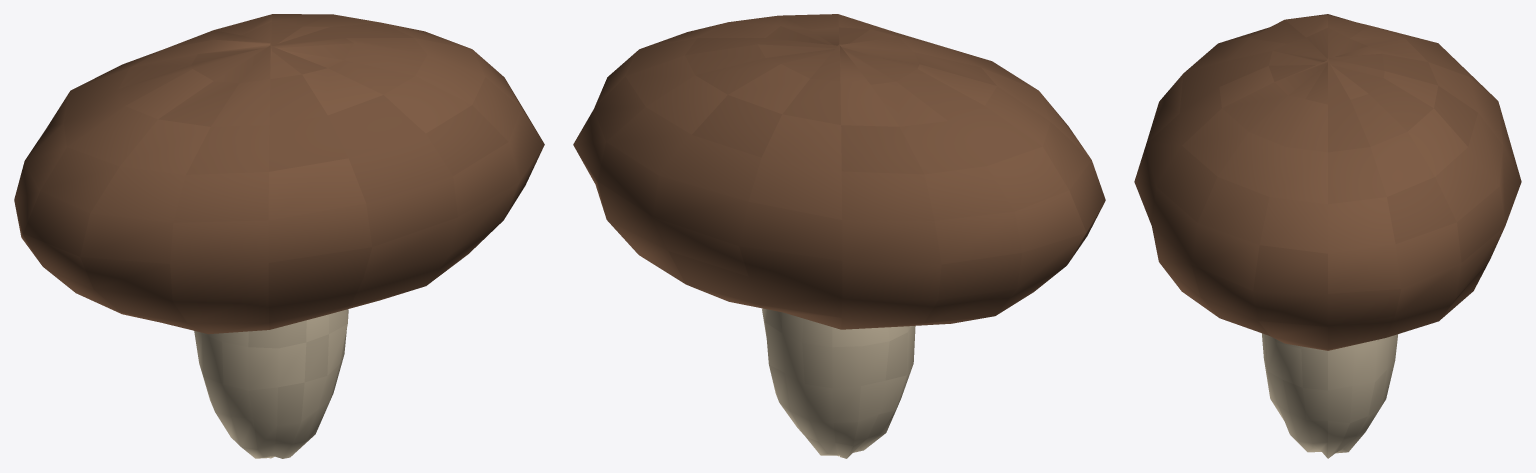
File: Shiitake.glb
3 views of the same model, side by side, from view 1: azimuth 30°, elevation 25°; view 2: azimuth 150°, elevation 25°; view 3: azimuth 270°, elevation 25° (orthographic). The views are drawn at different scales.
Visible parts, largest first — view 1: Shiitake; view 2: Shiitake; view 3: Shiitake.
Part boxes in pixels (x1,y1,x2,y2): Shiitake: (14,14,544,458); Shiitake: (573,14,1105,458); Shiitake: (1134,14,1521,458).
Size of what is drawn, in the model's own units: 0.0854 by 0.0694 by 0.0613.
